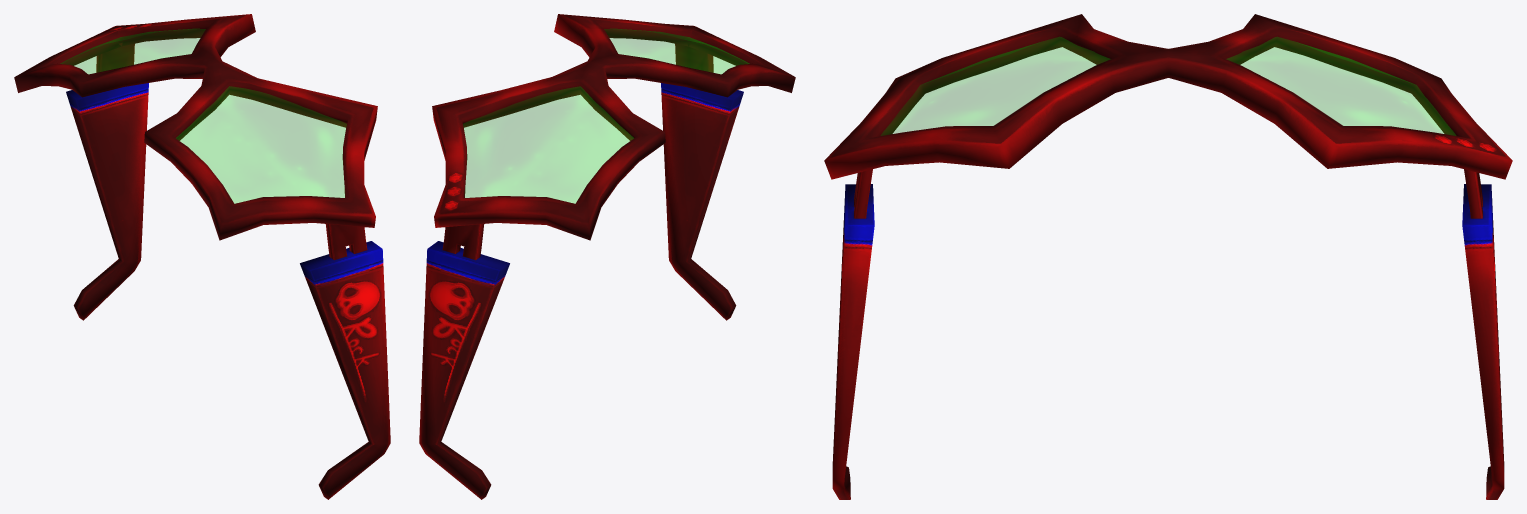
The picture shows the model from 3 angles, left to right: view 1: azimuth 30°, elevation 25°; view 2: azimuth 150°, elevation 25°; view 3: azimuth 270°, elevation 25°; orthographic projection. The views are drawn at different scales.
Visible parts, largest first — view 1: B1705:0, B1705:1; view 2: B1705:0, B1705:1; view 3: B1705:0, B1705:1.
Boxes of the visible parts, left/top/right/bottom form: B1705:0: left=14, top=14, right=390, bottom=499; B1705:1: left=60, top=28, right=346, bottom=203; B1705:0: left=419, top=14, right=795, bottom=499; B1705:1: left=463, top=28, right=749, bottom=203; B1705:0: left=824, top=14, right=1512, bottom=499; B1705:1: left=881, top=37, right=1455, bottom=135.
Size of the model in its own units: 0.1617 by 0.2599 by 0.358.
